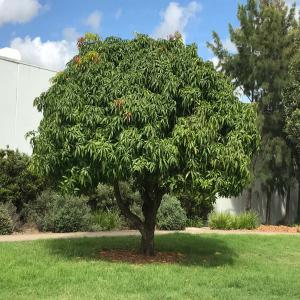Tree: (25, 28, 261, 256)
